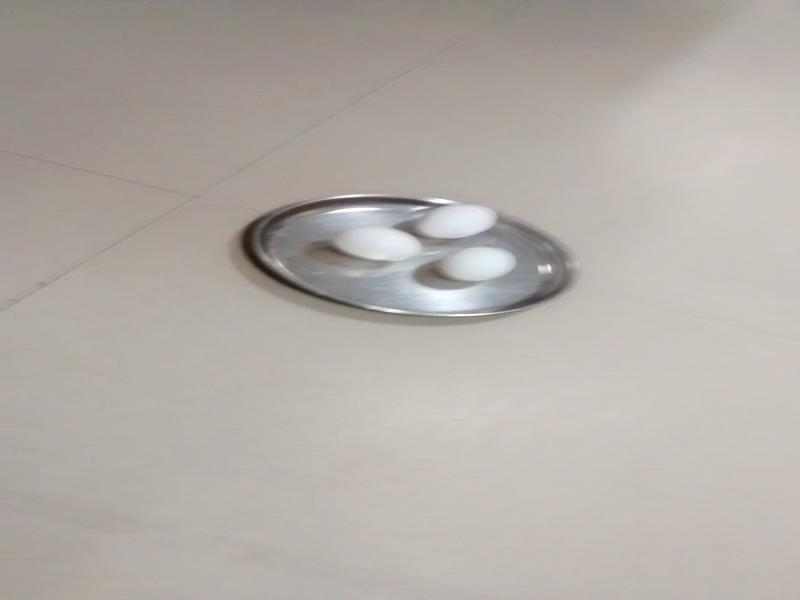egg: (440, 245, 519, 291)
